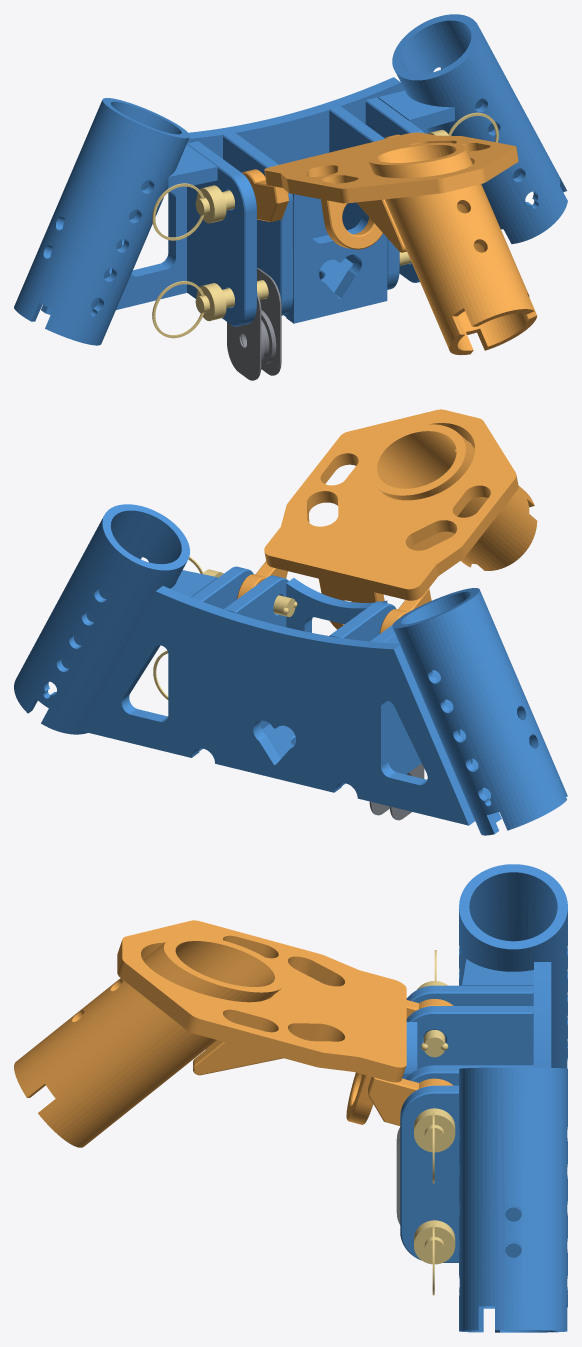
The model's file is cabeza_v7.glb.
3 views of the same model, one above another, from view 1: azimuth 30°, elevation 25°; view 2: azimuth 150°, elevation 25°; view 3: azimuth 270°, elevation 25° (orthographic). The views are drawn at different scales.
Parts seen in each view (by area): view 1: c_02a, g_08, c_02b, c_01, g_07, c_03a, c_04, c_03b, c_PL, c_03c, c_P-I2i, c_P-I1i (+7 smaller); view 2: c_01, g_07, c_02a, c_02b, g_08, c_04, c_03c, c_03a, c_03b, c_03d, g_10, c_06b (+5 smaller); view 3: c_02b, g_08, g_07, c_02a, c_03d, c_03b, c_03a, c_01, g_11b, g_09b, c_P-I2d, c_P-I1d (+5 smaller).
Part boxes in pixels (x1,y1,x2,y2): c_02a: (14,98,189,345); g_08: (367,142,537,355); c_02b: (392,14,567,243); c_01: (116,77,427,309); g_07: (264,132,518,203); c_03a: (187,141,256,326); c_04: (286,194,387,323); c_03b: (223,132,293,315); c_PL: (227,268,281,380); c_03c: (329,106,399,289); c_P-I2i: (152,280,268,338); c_P-I1i: (152,183,234,240); c_01: (80,586,474,825); g_07: (264,409,518,600); c_02a: (392,588,567,835); c_02b: (14,504,189,734); g_08: (367,424,537,570); c_04: (286,578,387,632); c_03c: (224,575,288,728); c_03a: (370,625,421,774); c_03b: (329,601,396,785); c_03d: (191,566,253,750); g_10: (318,579,384,629); c_06b: (170,570,217,597); c_02b: (459,1067,567,1332); g_08: (14,935,286,1147); g_07: (117,920,406,1082); c_02a: (459,864,567,1068); c_03d: (400,1085,521,1262); c_03b: (406,1006,533,1069); c_03a: (406,985,533,1005); c_01: (534,962,551,1067); g_11b: (193,1038,326,1075); g_09b: (368,1077,452,1125); c_P-I2d: (414,1220,455,1295); c_P-I1d: (414,1108,455,1183).
Size of the model in its own units: 417 by 209 by 323.
